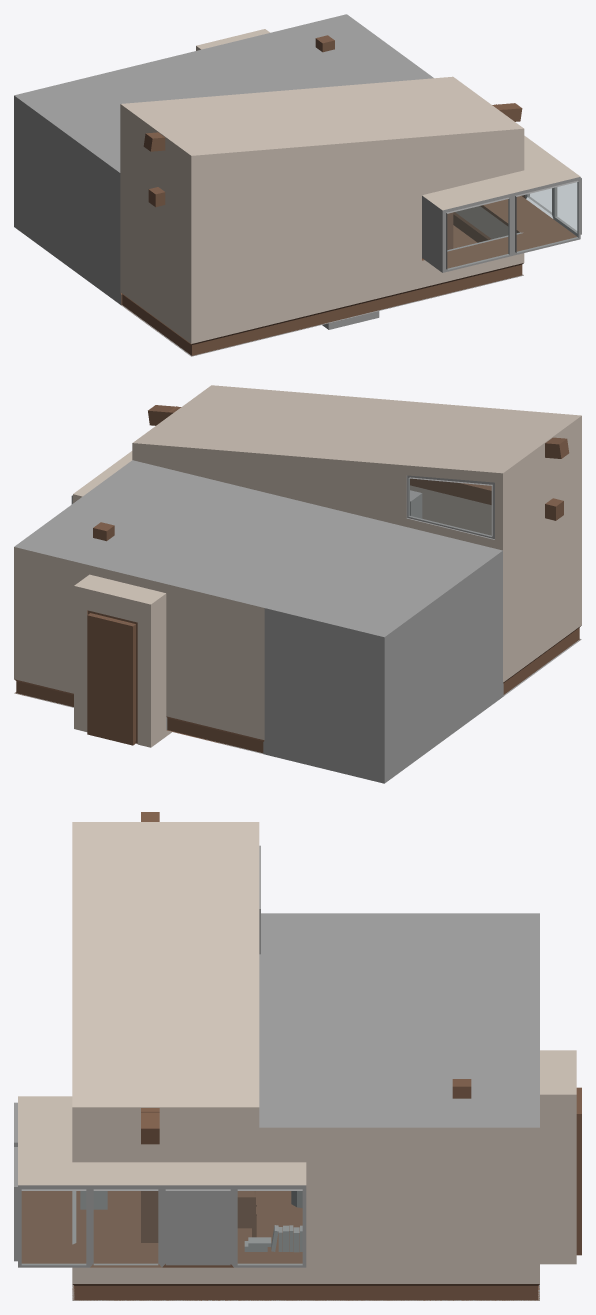
The model's file is Room_WithCharacterRef.fbx.
3 views of the same model, one above another, from view 1: azimuth 30°, elevation 25°; view 2: azimuth 150°, elevation 25°; view 3: azimuth 270°, elevation 25° (orthographic). The views are drawn at different scales.
Visible parts, largest first — view 1: room, wooden_beam2; view 2: room, door_entrance, wooden_beam5, wooden_beam2; view 3: room, wooden_beam3, door_entrance, wooden_beam2, table.
Boxes of the visible parts, left/top/right/bottom form: room: left=14, top=14, right=581, bottom=356; wooden_beam2: left=143, top=103, right=522, bottom=151; room: left=14, top=385, right=581, bottom=783; door_entrance: left=87, top=614, right=135, bottom=745; wooden_beam5: left=168, top=406, right=563, bottom=520; wooden_beam2: left=148, top=405, right=569, bottom=458; room: left=14, top=822, right=578, bottom=1300; wooden_beam3: left=141, top=1191, right=158, bottom=1242; door_entrance: left=576, top=1087, right=581, bottom=1255; wooden_beam2: left=141, top=812, right=159, bottom=1144; table: left=237, top=1191, right=256, bottom=1237.
Size of the model in its own units: 7.53 by 3.96 by 7.29.
